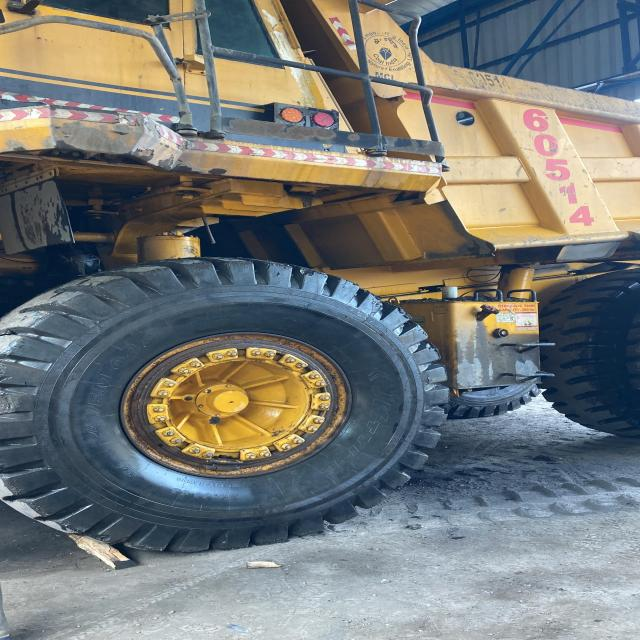dump_truck: (0, 0, 640, 554)
